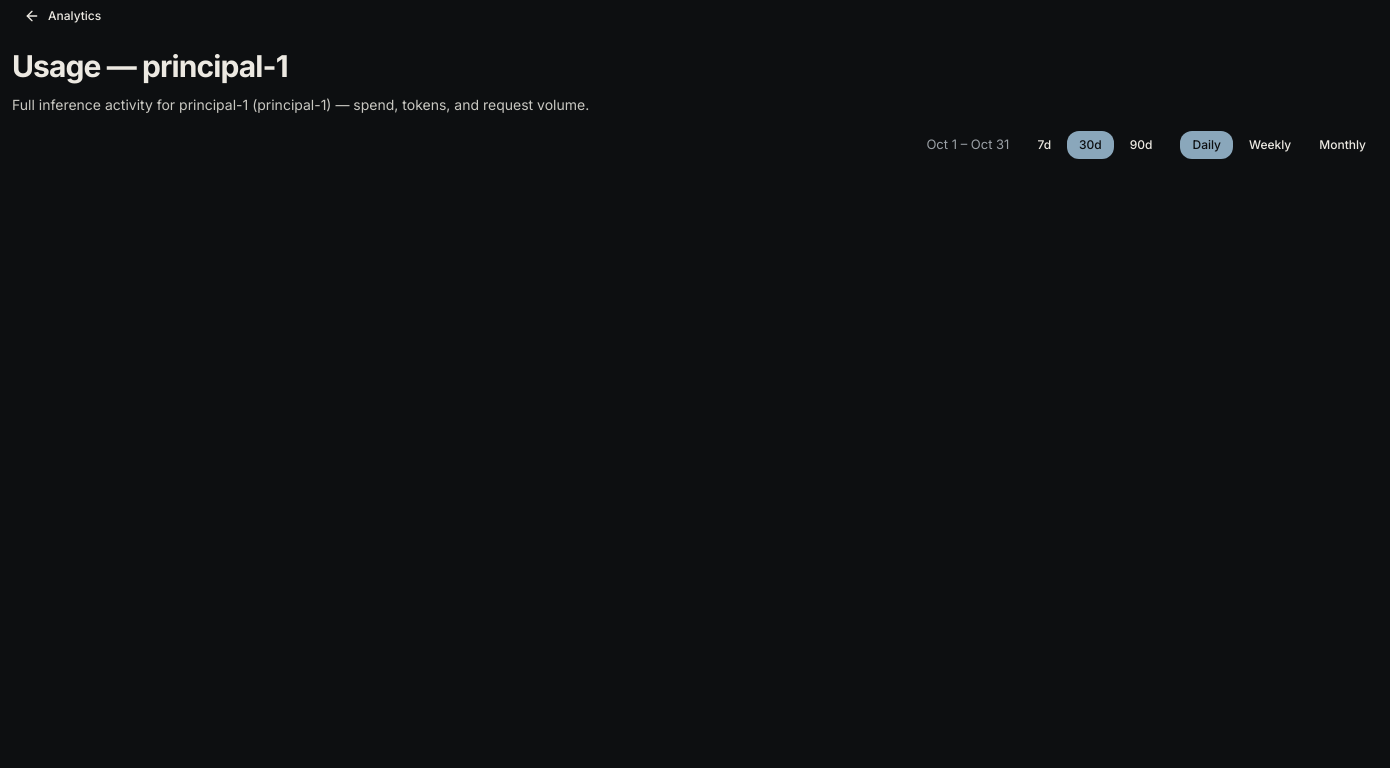
Scenario: PrincipalUsageView — period controls drive a live refetch › loads and renders KPI data after switching granularity
Check: the text "Cost" is not shown
Step 1. Click the button "Weekly" → (1270, 144), box [1237,130,1303,158]
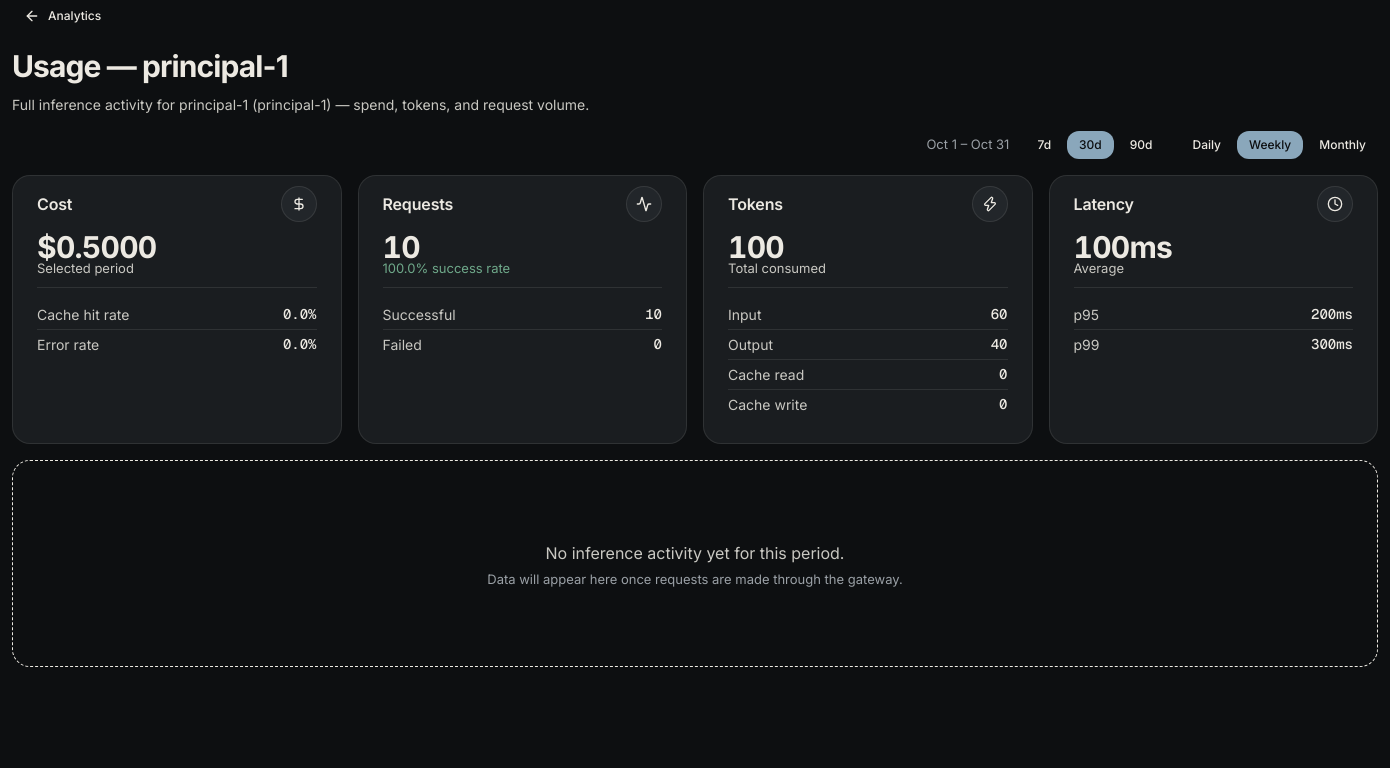
Check: the heading "Cost" is shown, box [37,194,72,214]
